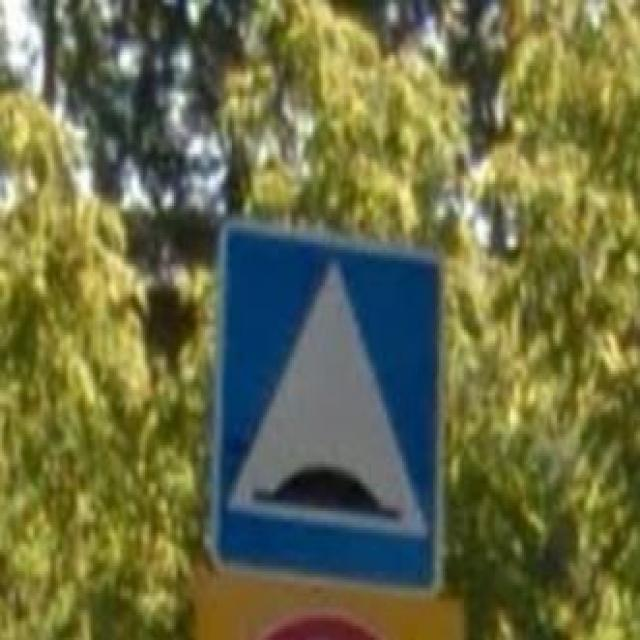traffic_sign: (208, 219, 446, 602)
